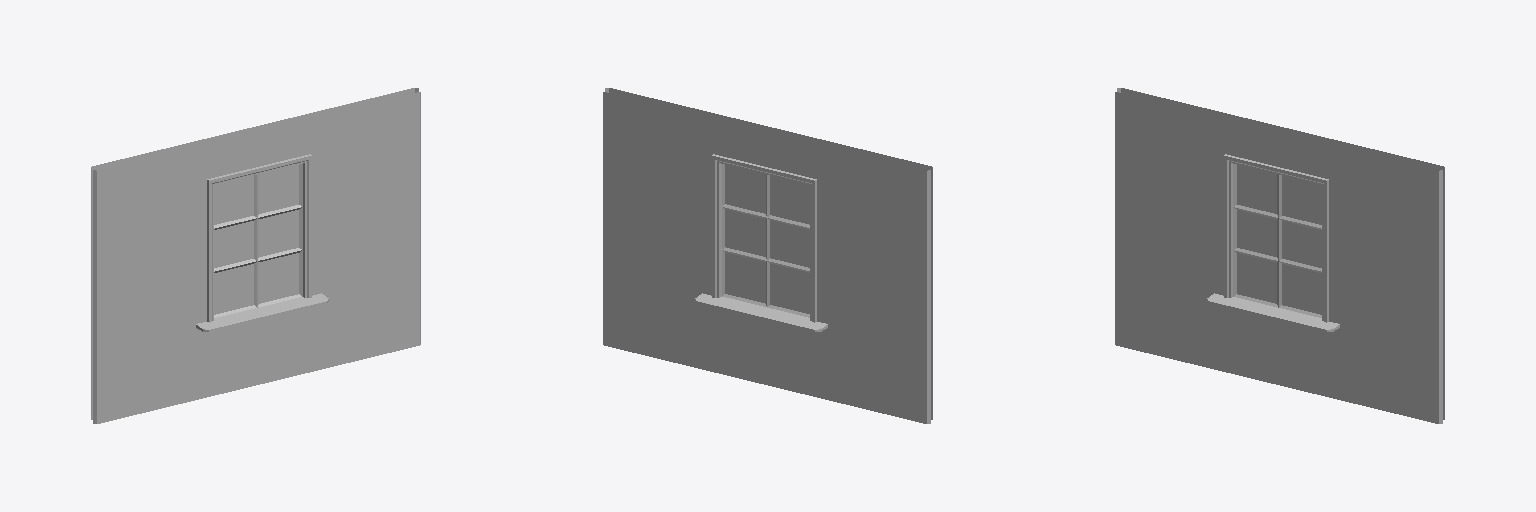
File: window_1_single.obj
3 views of the same model, side by side, from view 1: azimuth 30°, elevation 25°; view 2: azimuth 150°, elevation 25°; view 3: azimuth 330°, elevation 25° (orthographic).
Parts seen in each view (by area): view 1: window_1_single; view 2: window_1_single; view 3: window_1_single.
Part boxes in pixels (x1,y1,x2,y2): window_1_single: (91, 88, 420, 423); window_1_single: (603, 88, 932, 423); window_1_single: (1115, 88, 1444, 423).
Bounding box in the file's own units: 4.06 × 3 × 0.52.